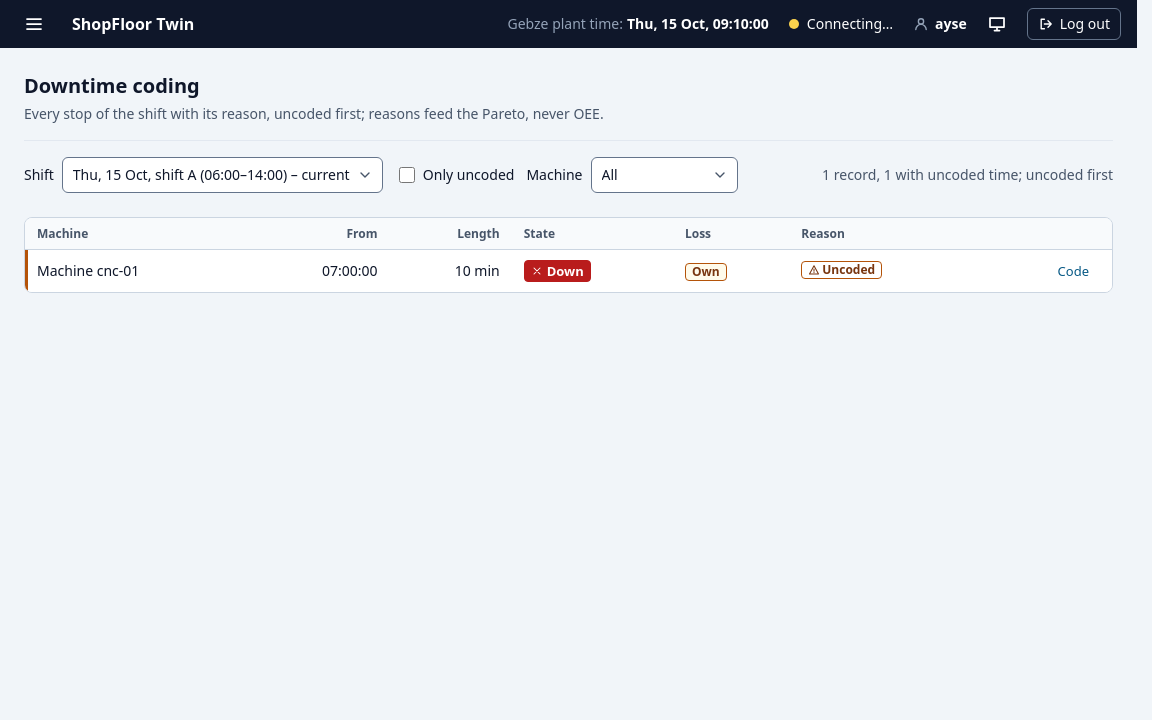
Scenario: downtime coding › explains a 403 from the MES
Click the button "Code" at (1073, 271), box [1047, 257, 1100, 285]
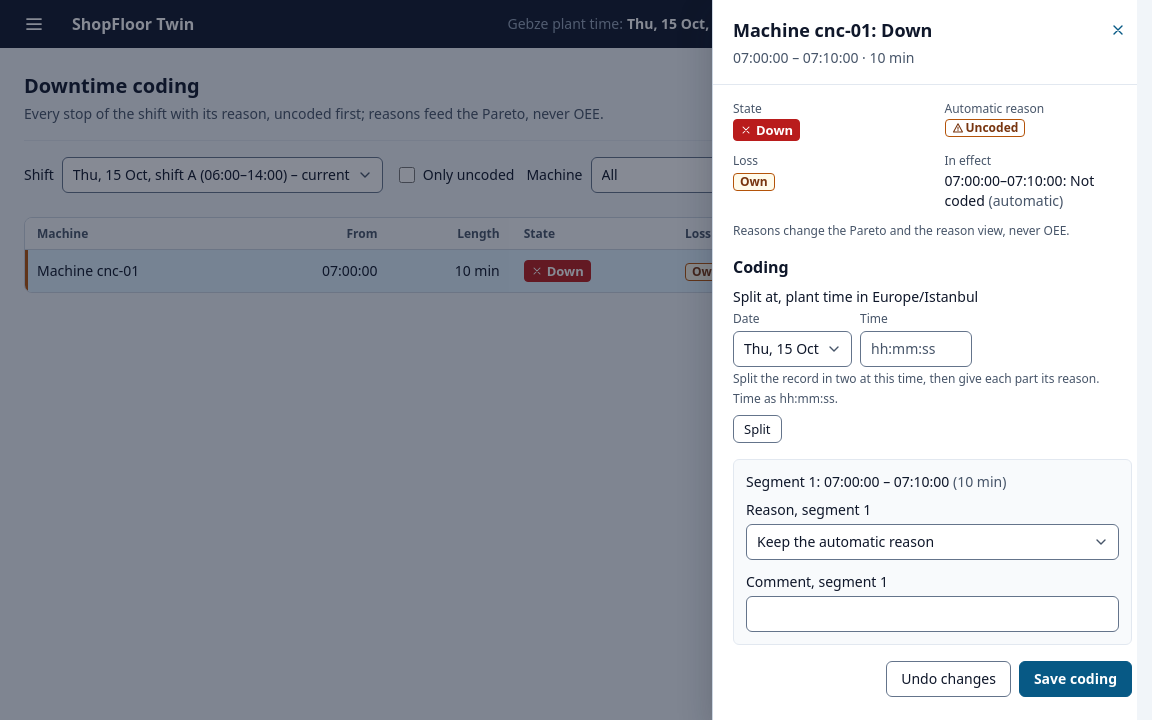
Select "Setup" in the dropdown with test id "reason-picker" at (932, 542), box [746, 524, 1119, 560]
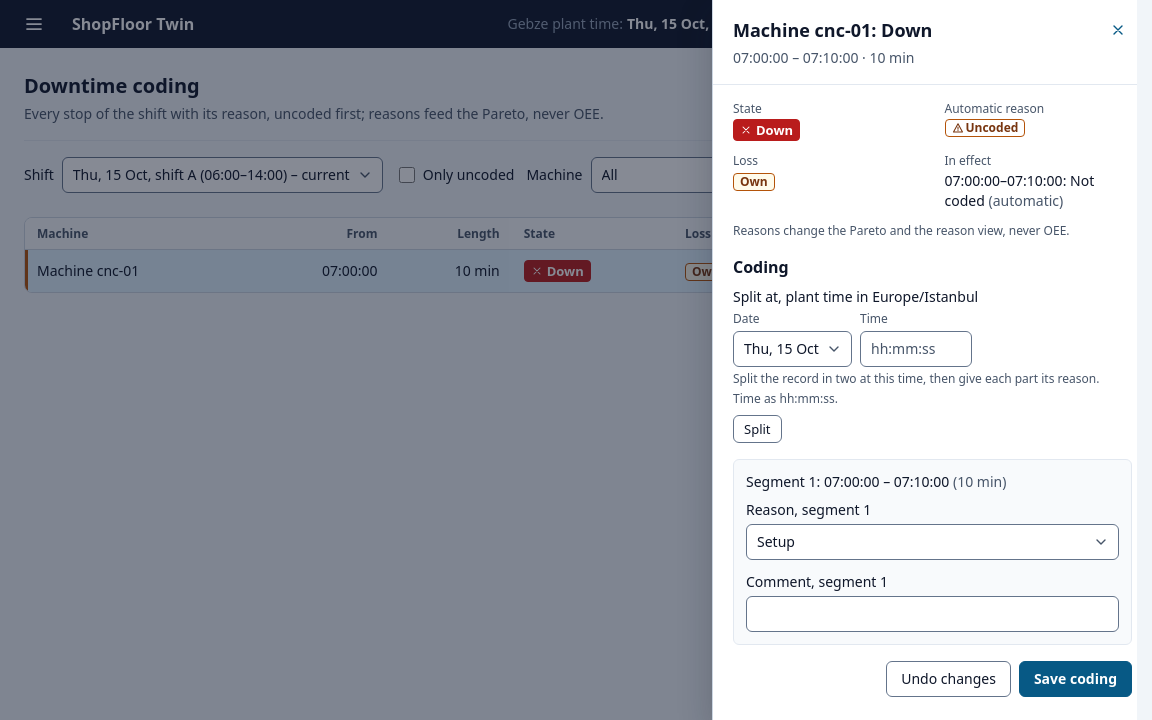
Click the button with test id "save-coding" at (1075, 679), box [1019, 661, 1132, 697]
(page scrolled)
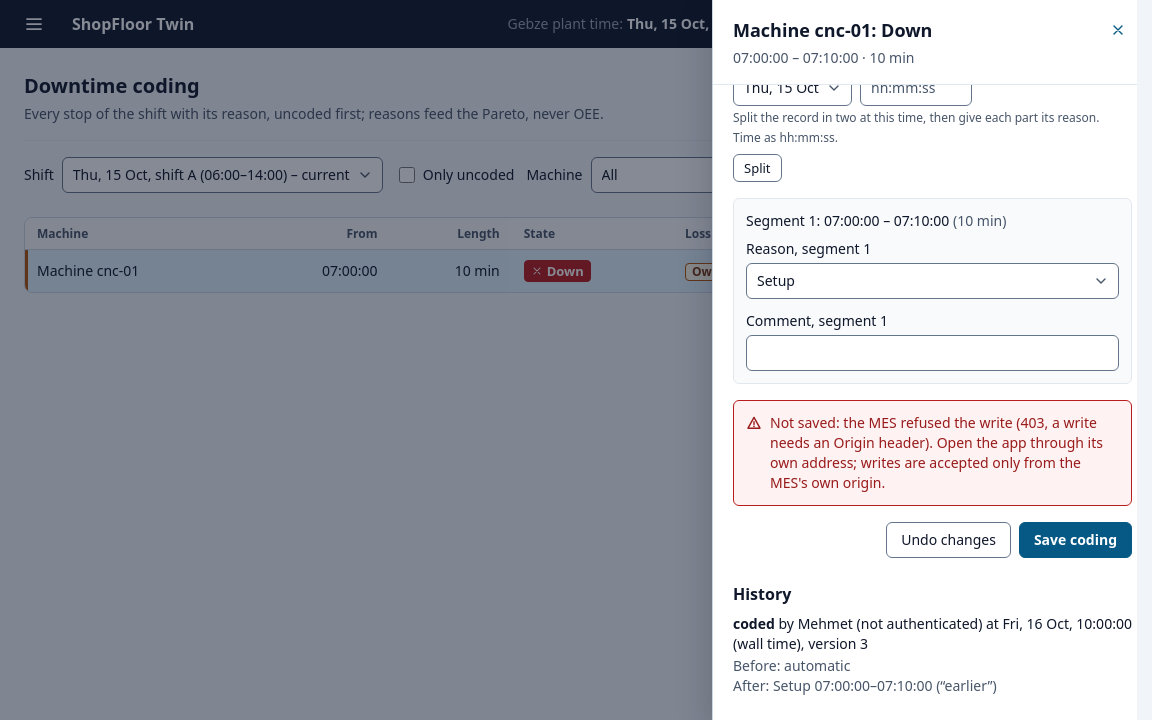
Expected: the message with test id "coding-message" shows "Open the app through its own address", [770, 413, 1103, 492]
